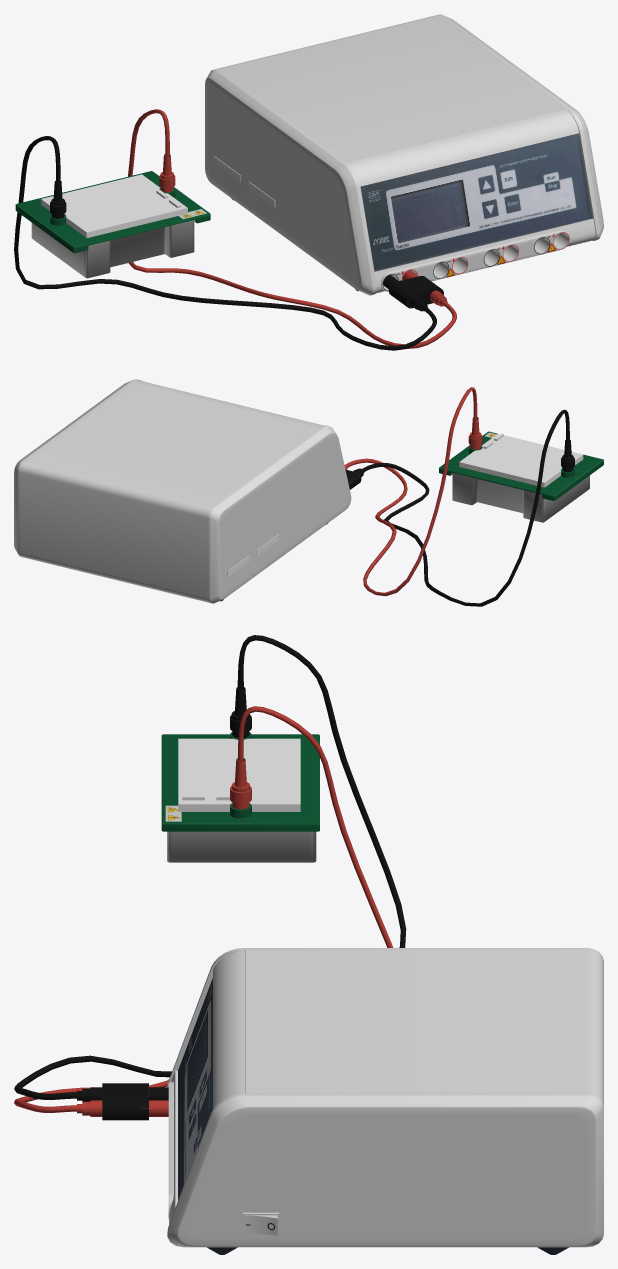
3 renders of one model, top to bottom at view 1: azimuth 30°, elevation 25°; view 2: azimuth 150°, elevation 25°; view 3: azimuth 270°, elevation 25°, orthographic. The views are drawn at different scales.
Visible parts, largest first — view 1: DianYongYi, DianYongCao, Cube.002; view 2: DianYongYi, DianYongCao, Cube.002; view 3: DianYongYi, DianYongCao, Cube.002.
Part boxes in pixels (x1,y1,x2,y2): DianYongYi: [205, 14, 603, 295]; DianYongCao: [14, 109, 456, 350]; Cube.002: [41, 174, 187, 237]; DianYongYi: [14, 379, 351, 603]; DianYongCao: [344, 387, 603, 606]; Cube.002: [459, 433, 583, 487]; DianYongYi: [167, 948, 603, 1254]; DianYongCao: [14, 635, 406, 1120]; Cube.002: [178, 738, 300, 811].
Size of the model in its own units: 1222 by 468 by 862.
